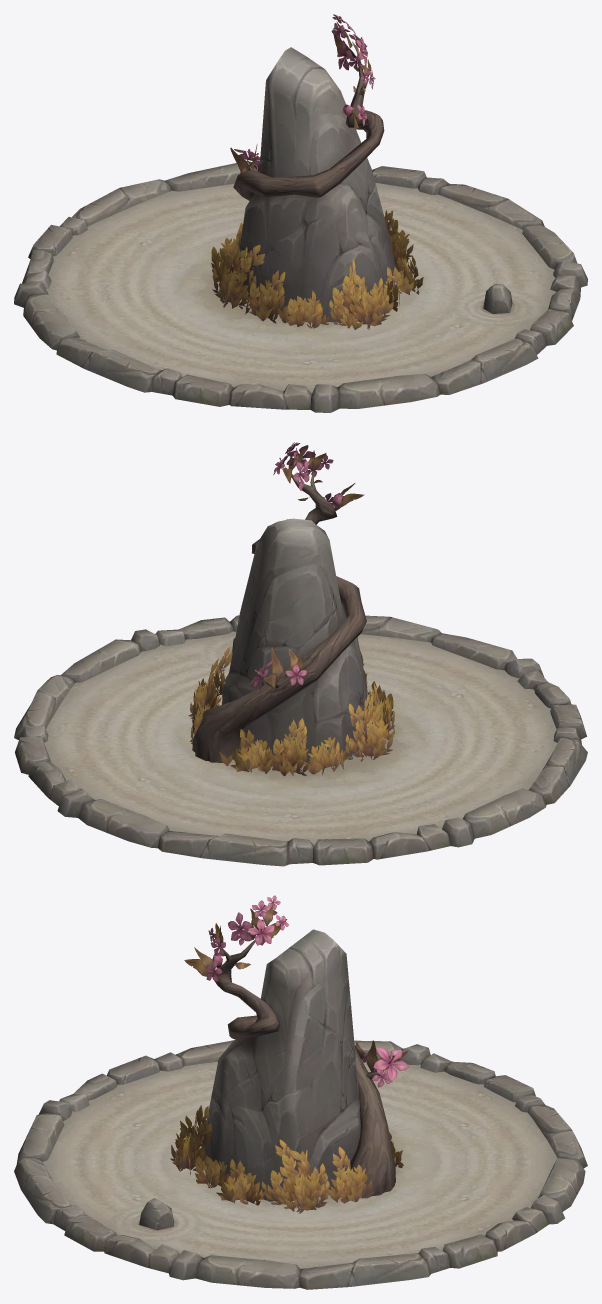
3 renders of one model, top to bottom at view 1: azimuth 30°, elevation 25°; view 2: azimuth 150°, elevation 25°; view 3: azimuth 270°, elevation 25°, orthographic.
Bounding box in the file's own units: 5.97 × 3.26 × 5.97.
3 materials, 3 textured.
